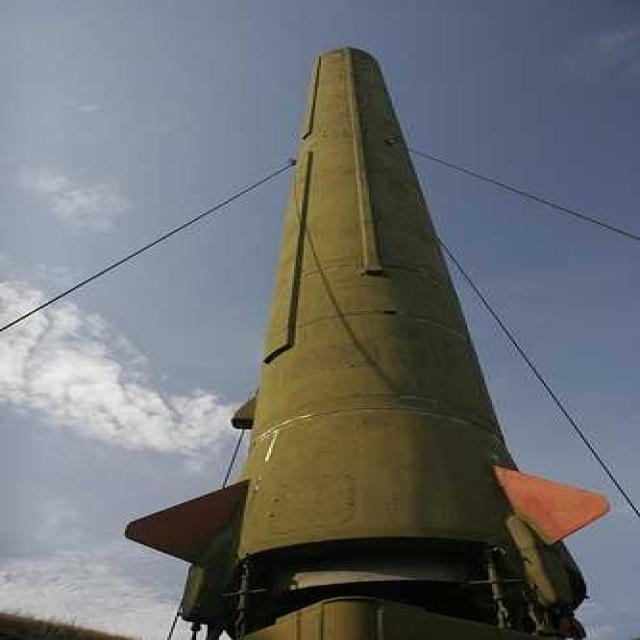missile: (118, 46, 606, 640)
